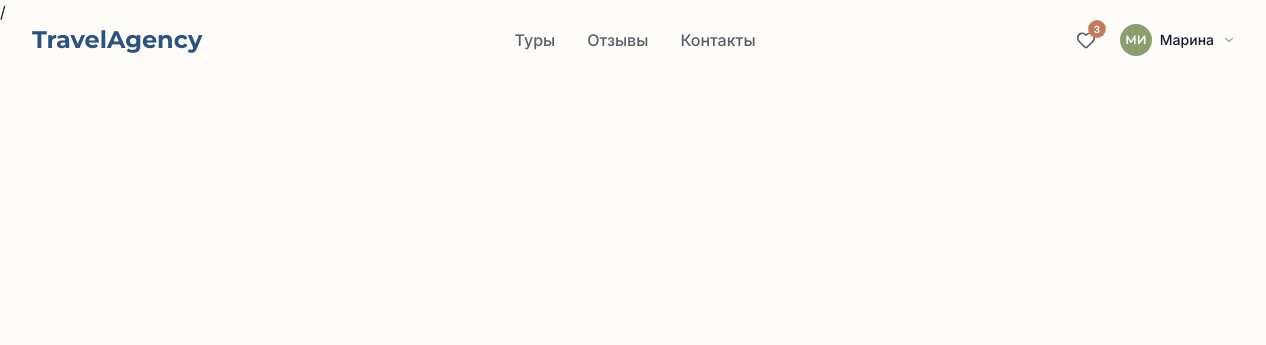
Test: Header pointer › ТК-11 пункт manager есть только у своей роли и с курсором ссылки
The image size is (1266, 345).
Click the button "МИ Марина".
click(1182, 40)  # box [1116,20,1248,60]
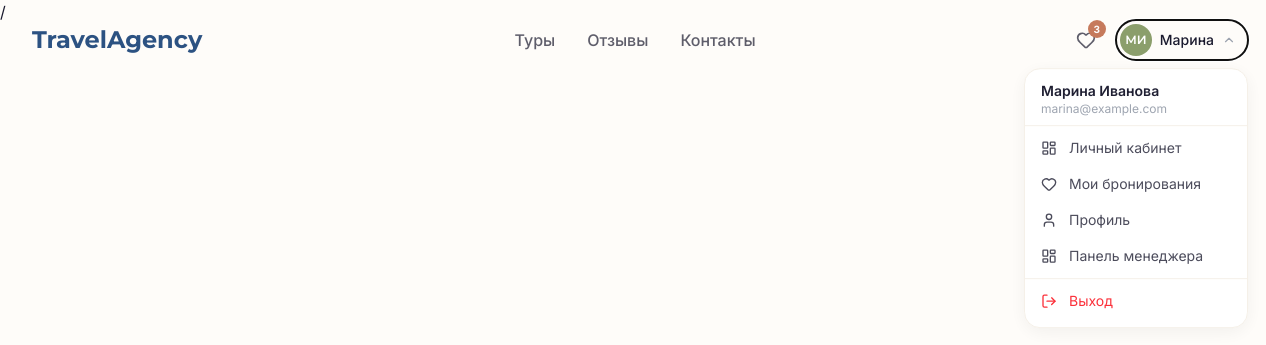
Click the button "Личный кабинет".
click(1136, 148)  # box [1025,130,1247,166]
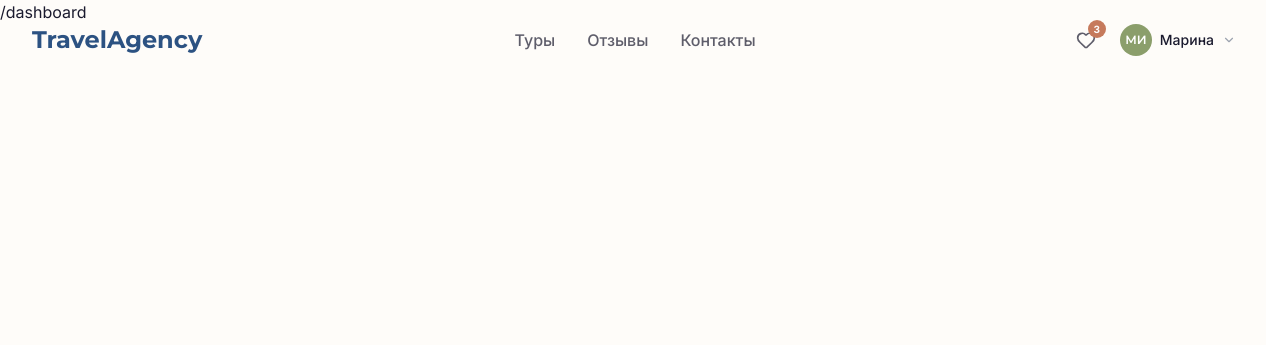
expect the text with test id "location" reads "/dashboard": met, box [0,2,86,22]
